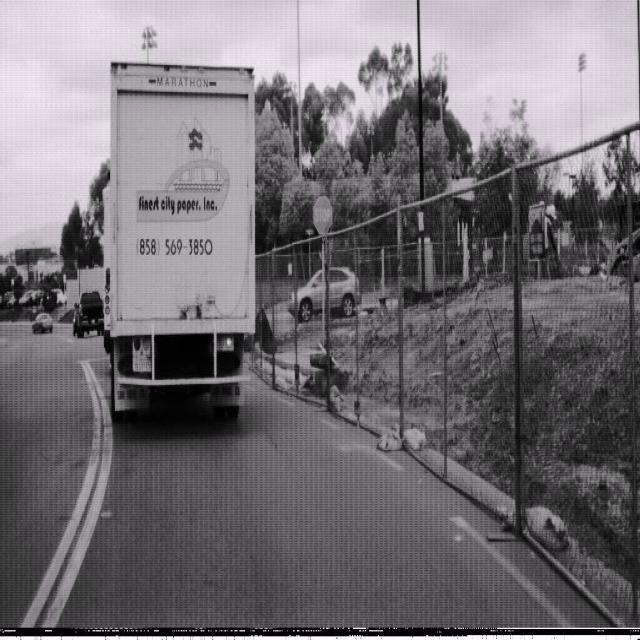stop: (312, 194, 332, 235)
